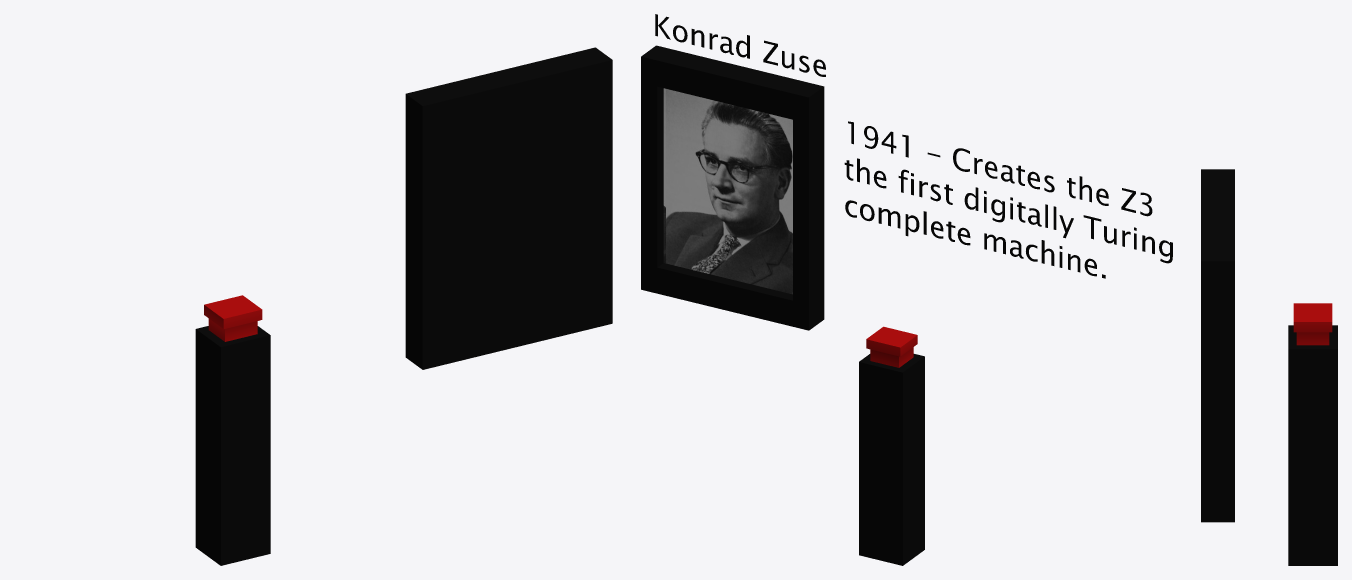
The picture shows the model from 3 angles, left to right: view 1: azimuth 30°, elevation 25°; view 2: azimuth 150°, elevation 25°; view 3: azimuth 270°, elevation 25°; orthographic projection. The views are drawn at different scales.
Visible parts, largest first — view 1: typeMesh19, polySurface4273; view 2: typeMesh19, polySurface4273; view 3: polySurface4273, typeMesh19.
Part boxes in pixels (bbox=[...]): typeMesh19: bbox=[405, 47, 612, 369]; polySurface4273: bbox=[195, 295, 270, 565]; typeMesh19: bbox=[641, 14, 1172, 330]; polySurface4273: bbox=[859, 326, 924, 565]; polySurface4273: bbox=[1288, 303, 1337, 565]; typeMesh19: bbox=[1201, 169, 1234, 522].
Size of what is drawn, in the model's own units: 4.9 by 3.94 by 0.9917.
4 materials, 1 textured.
